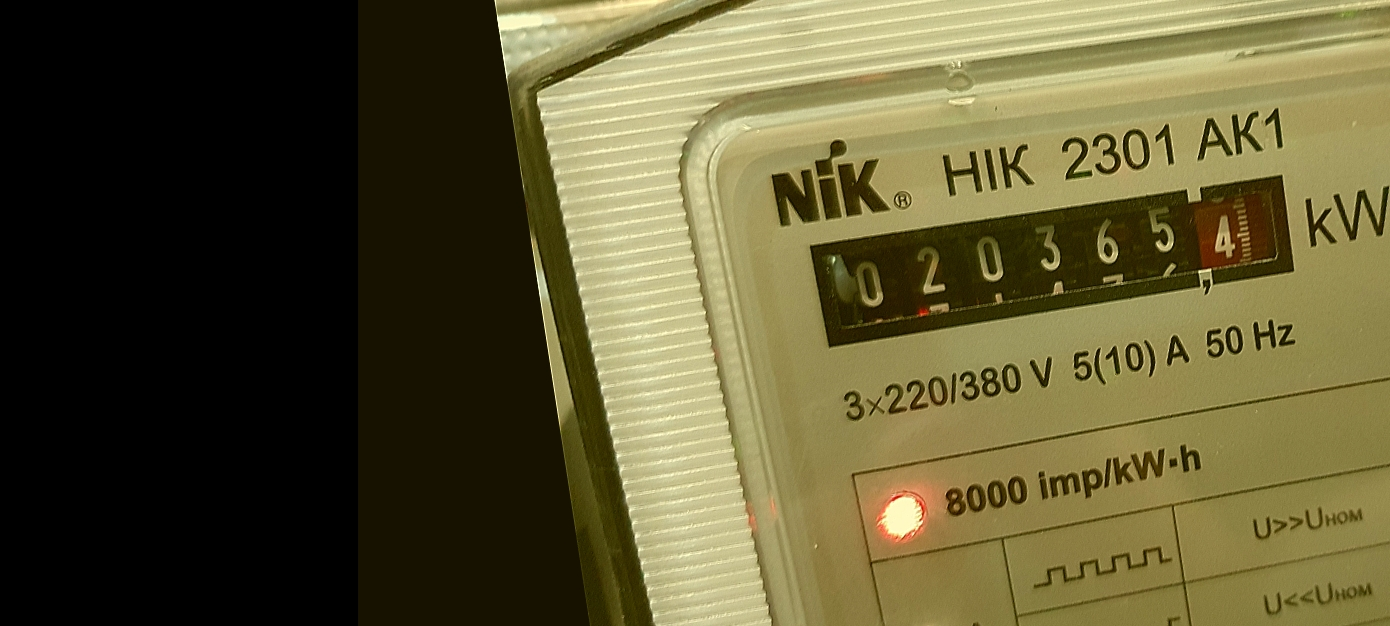0: (850, 253, 891, 313), (973, 232, 1010, 285)
2: (913, 241, 950, 296)
3: (1032, 221, 1067, 274)
4: (1209, 210, 1239, 261)
5: (1147, 204, 1181, 254)
6: (1090, 213, 1123, 267)
screen: (795, 153, 1317, 366)
